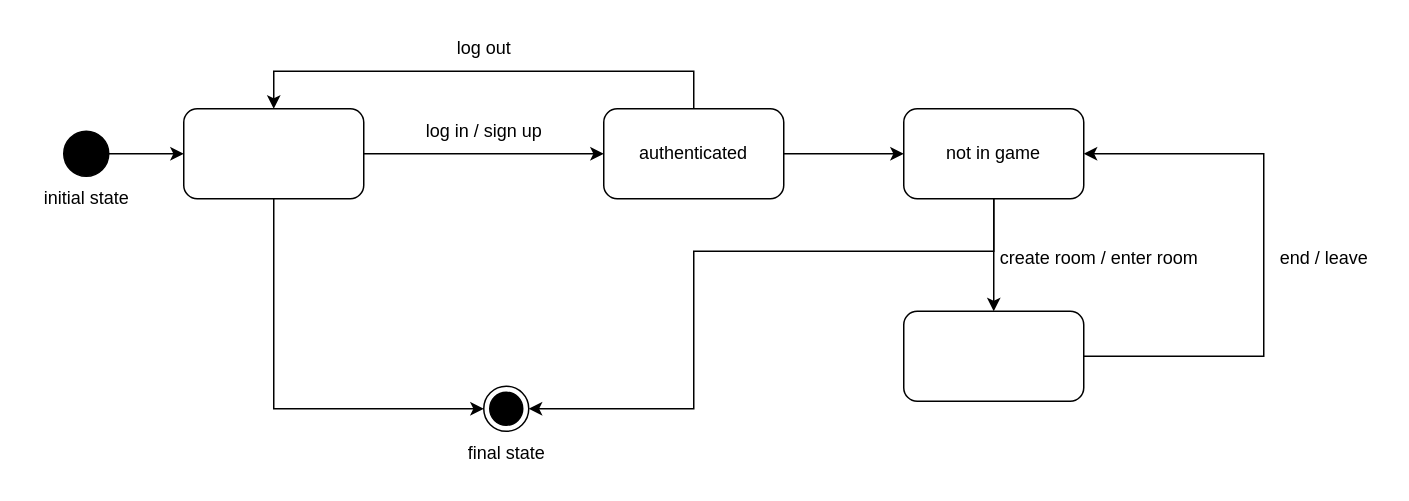
This 1409x501 diagram has some shape labels left out. The centre of each missing label's shape, as x and y in pixels:
in game: (x=993, y=355)
not authenticated: (x=273, y=153)
